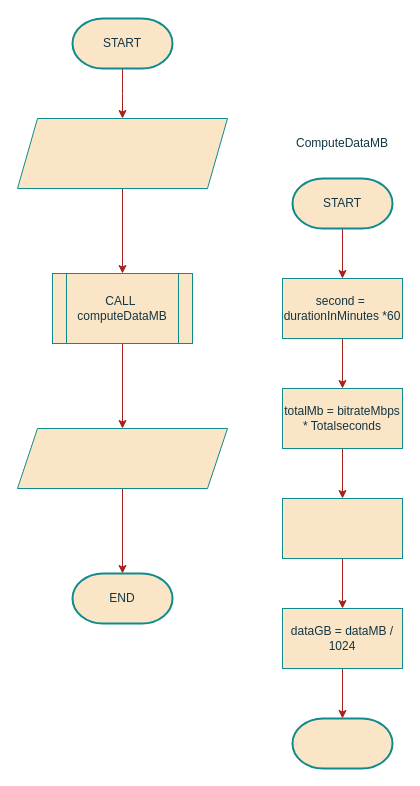
This 420x786 diagram has some shape labels left out. Here are the shapes that lost their labels. From the top down, the centre of each, then its label:
At [122,153]: "PROMPT AND READ bitrateinMbps, durationInMinutes".
At [122,458]: "Display dataMB, dataGB".
At [342,528]: "dataMB = totalMb / 8".
At [342,743]: "RETURN".
